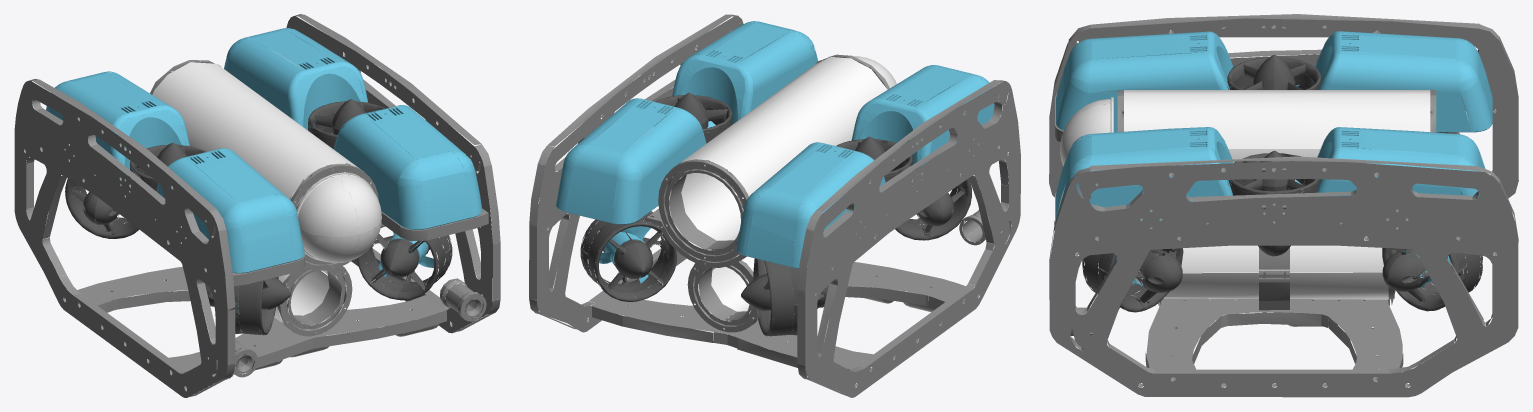
Rendered from bluerovsimple.glb.
The picture shows the model from 3 angles, left to right: view 1: azimuth 30°, elevation 25°; view 2: azimuth 150°, elevation 25°; view 3: azimuth 270°, elevation 25°; orthographic projection. The views are drawn at different scales.
Visible parts, largest first — view 1: Untitled_283, Untitled_012, Untitled_098, Untitled_282, Untitled_009, Untitled_499, Untitled_011, Untitled_354, Untitled_010, Untitled_117, Untitled_469, Untitled_365 (+11 smaller); view 2: Untitled_283, Untitled_098, Untitled_011, Untitled_282, Untitled_499, Untitled_010, Untitled_012, Untitled_009, Untitled_216, Untitled_428, Untitled_217, Untitled_470 (+8 smaller); view 3: Untitled_282, Untitled_098, Untitled_283, Untitled_010, Untitled_499, Untitled_009, Untitled_107, Untitled_012, Untitled_011, Untitled_215, Untitled_216, Untitled_117 (+8 smaller).
Boxes of the visible parts, <box> form: Untitled_283: <box>14,79,235,397</box>; Untitled_012: <box>334,105,482,229</box>; Untitled_098: <box>152,62,371,209</box>; Untitled_282: <box>286,14,500,333</box>; Untitled_009: <box>156,148,304,273</box>; Untitled_499: <box>77,266,446,376</box>; Untitled_011: <box>224,28,367,130</box>; Untitled_354: <box>296,172,381,263</box>; Untitled_010: <box>46,71,189,183</box>; Untitled_117: <box>357,226,452,300</box>; Untitled_469: <box>277,262,352,336</box>; Untitled_365: <box>225,276,290,335</box>; Untitled_283: <box>797,80,1020,397</box>; Untitled_098: <box>664,56,887,255</box>; Untitled_011: <box>556,98,706,224</box>; Untitled_282: <box>529,14,743,332</box>; Untitled_499: <box>592,262,965,371</box>; Untitled_010: <box>736,142,885,268</box>; Untitled_012: <box>672,21,817,124</box>; Untitled_009: <box>851,65,997,180</box>; Untitled_216: <box>580,209,676,301</box>; Untitled_428: <box>658,159,748,261</box>; Untitled_217: <box>741,253,803,336</box>; Untitled_470: <box>687,257,757,332</box>; Untitled_282: <box>1049,156,1518,397</box>; Untitled_098: <box>1124,90,1430,182</box>; Untitled_283: <box>1049,14,1518,198</box>; Untitled_010: <box>1312,31,1492,132</box>; Untitled_499: <box>1145,290,1403,381</box>; Untitled_009: <box>1056,31,1233,132</box>; Untitled_107: <box>1164,236,1388,299</box>; Untitled_012: <box>1056,127,1233,224</box>; Untitled_011: <box>1314,127,1485,224</box>; Untitled_215: <box>1227,55,1321,89</box>; Untitled_216: <box>1382,229,1482,311</box>; Untitled_117: <box>1082,240,1183,312</box>.
Bounding box in the file's own units: 0.338 × 0.2552 × 0.4576.
